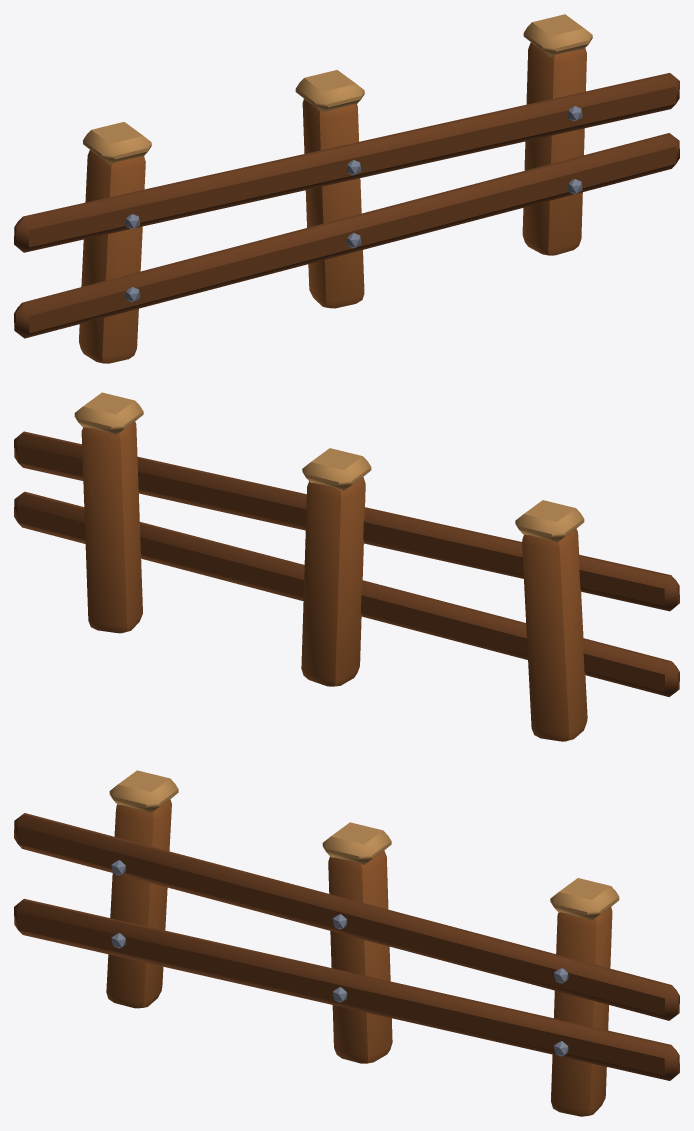
File: p_fence.glb
The picture shows the model from 3 angles, top to bottom: view 1: azimuth 30°, elevation 25°; view 2: azimuth 150°, elevation 25°; view 3: azimuth 330°, elevation 25°; orthographic projection.
Parts seen in each view (by area): view 1: body; view 2: body; view 3: body.
Part boxes in pixels (x1,y1,x2,y2): body: (14, 14, 679, 363); body: (14, 392, 679, 741); body: (14, 770, 679, 1116).
Size of the model in its own units: 4 by 1.28 by 0.3983.
